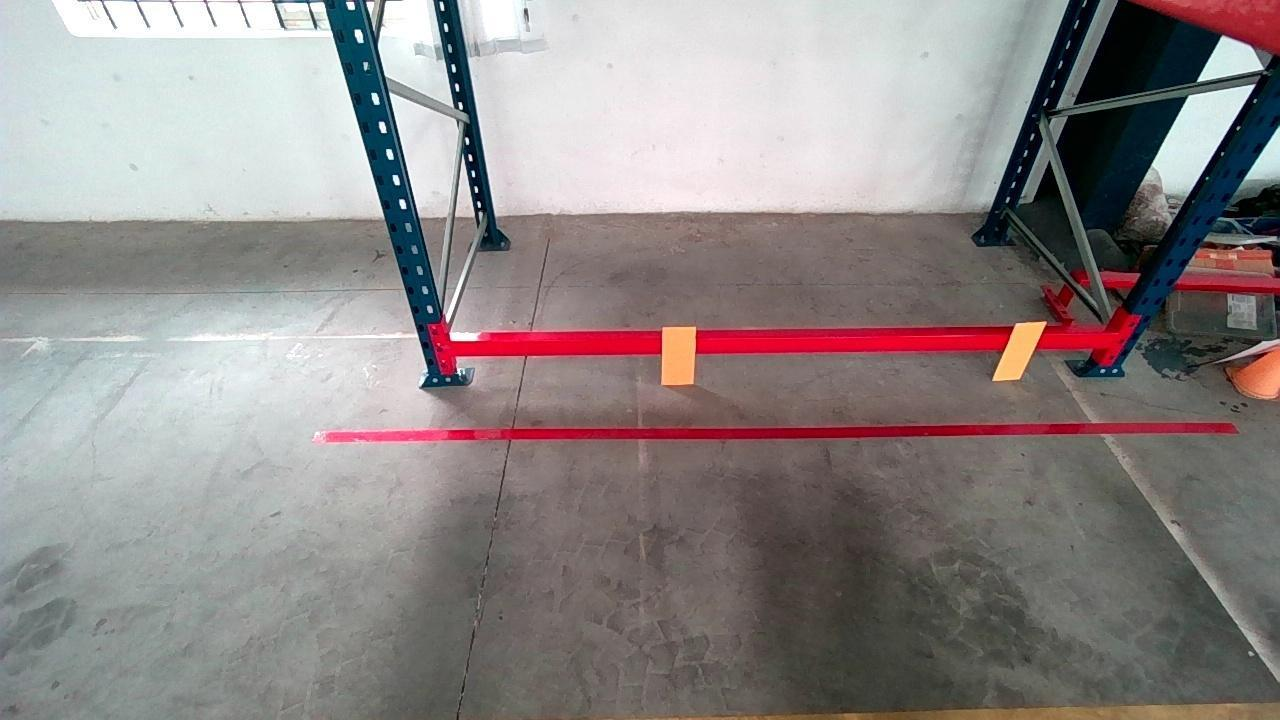h_rack: (446, 334, 1118, 358)
orange_strip: (992, 321, 1049, 380), (662, 325, 696, 384)
red_line: (312, 418, 1238, 439)
